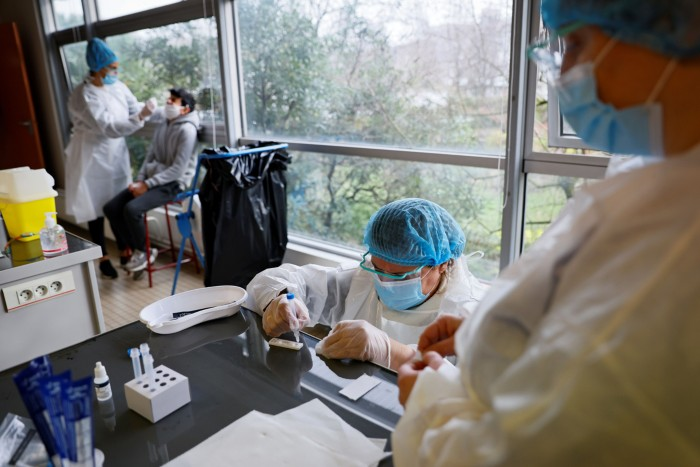Gloves: (310, 310, 395, 368), (261, 291, 316, 343)
mask_weared_incorrect: (163, 95, 181, 119)
with_mask: (558, 28, 668, 163), (369, 258, 431, 316)
